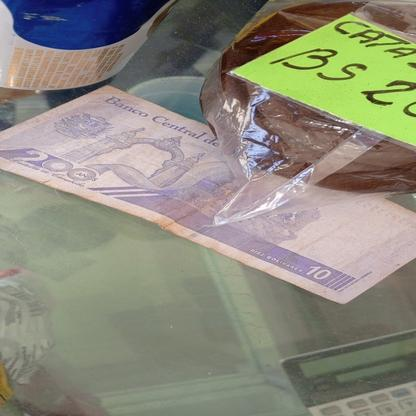ten-back-vef: (1, 84, 416, 306)
